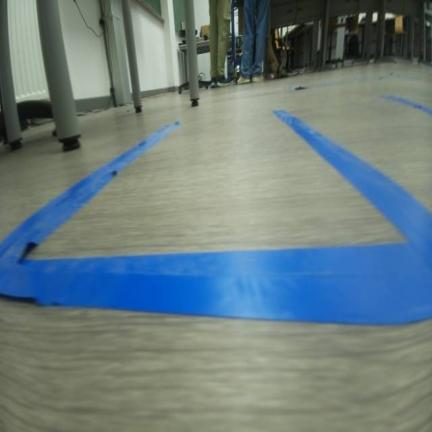place: (0, 107, 431, 317), (274, 93, 431, 266)
